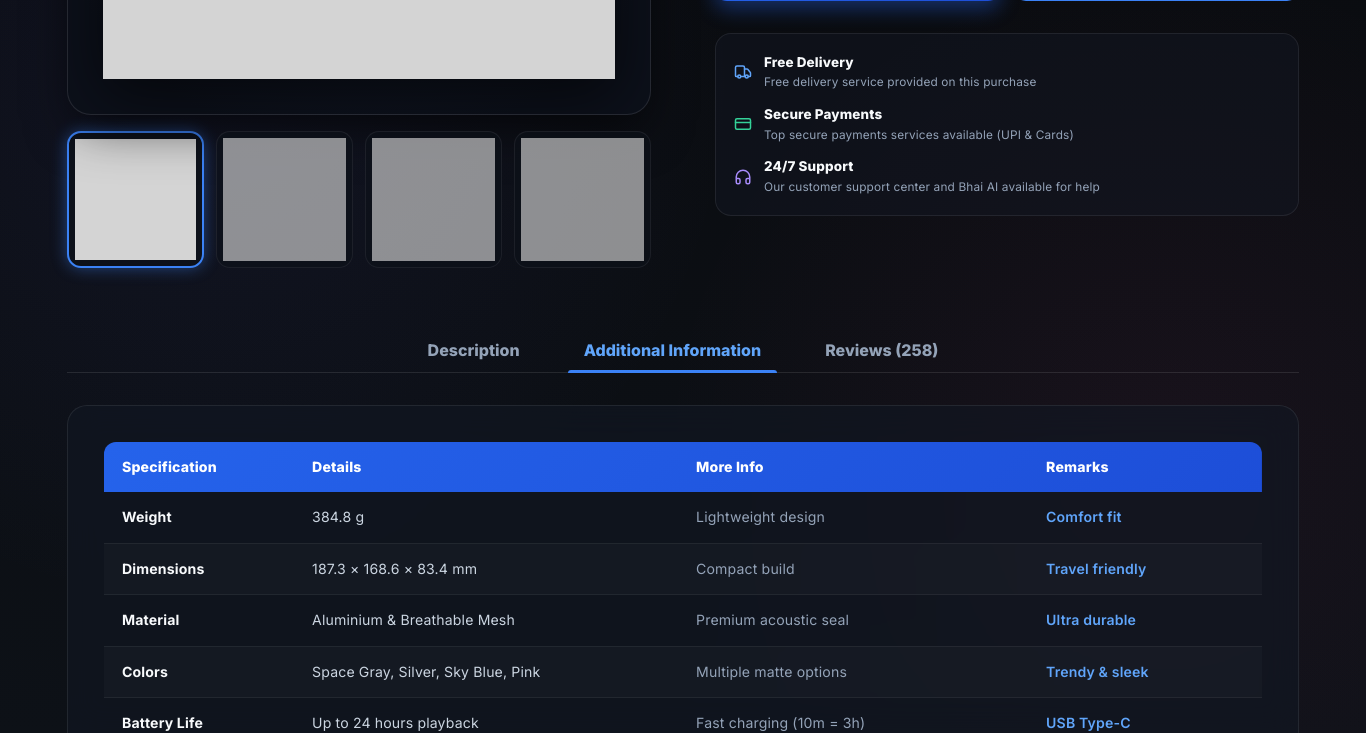
Test case: ProductDetail Page (Redesigned) › switches between Description, Additional Information (Specs), and Reviews tabs
The image size is (1366, 733).
(page scrolled)
expect the column heading "Specification" is shown: met, box [104,442,294,492]
expect the column heading "Details" is shown: met, box [294,442,678,492]
// Click Description
What coordinates should you click on to do the following:
click the button "Description"
I would click on:
 (474, 350)
Its box is [412,328,536,372].
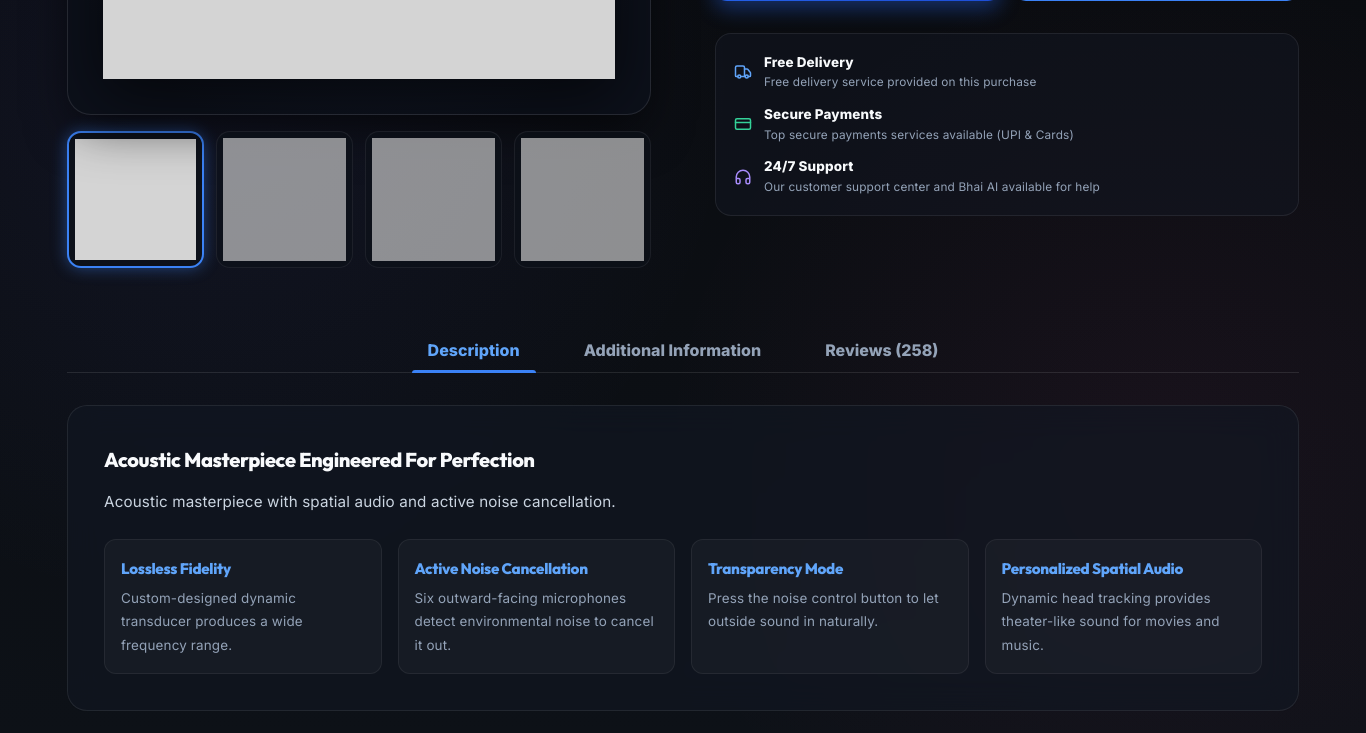
expect the heading "Lossless Fidelity" is shown: met, box [121,559,231,578]
// Click Reviews
What coordinates should you click on to do the following:
click the button "Reviews (258)"
I would click on:
 (882, 350)
Its box is [809,328,954,372].
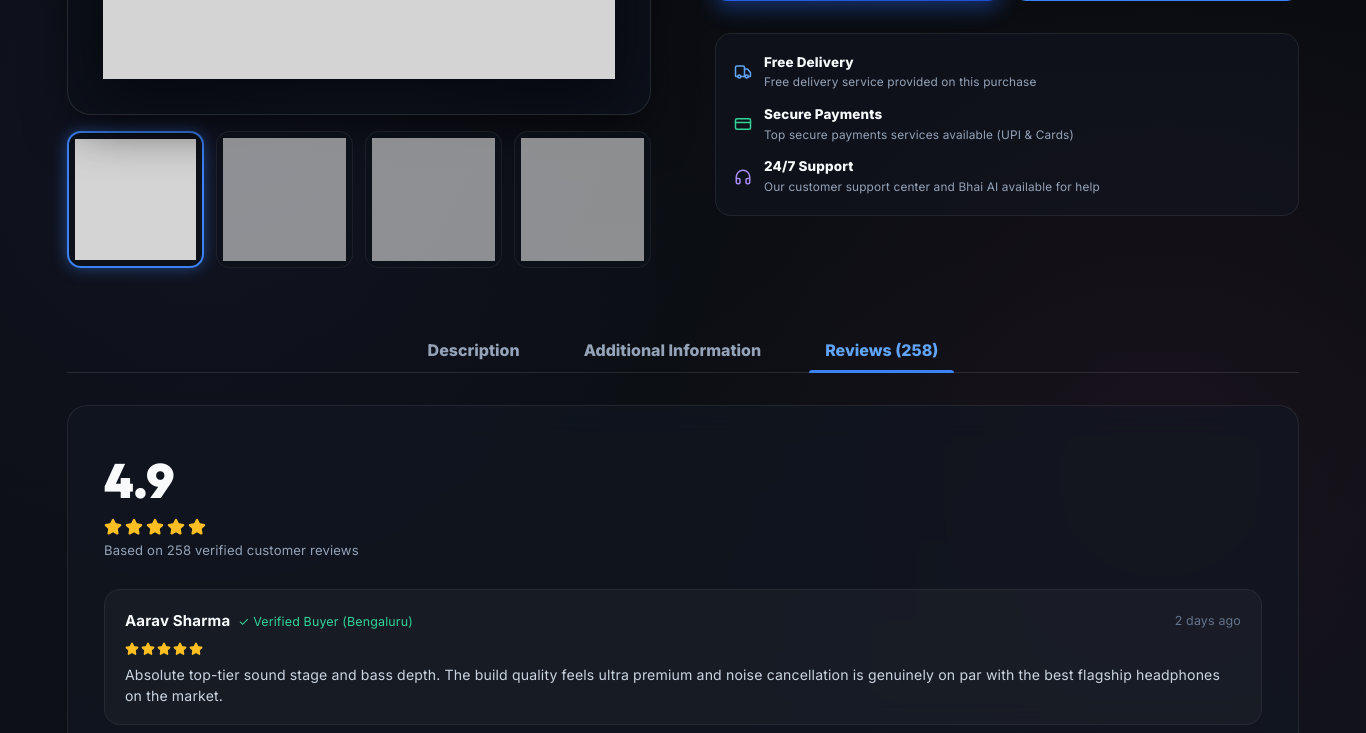
expect the text "Based on 258 verified customer reviews" is shown: met, box [104,540,359,561]
